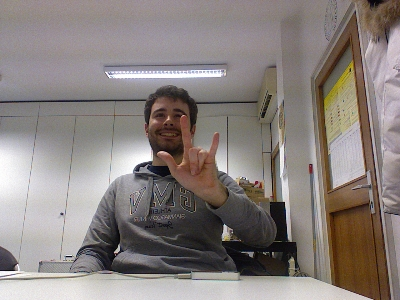我爱你: (156, 114, 220, 192)
